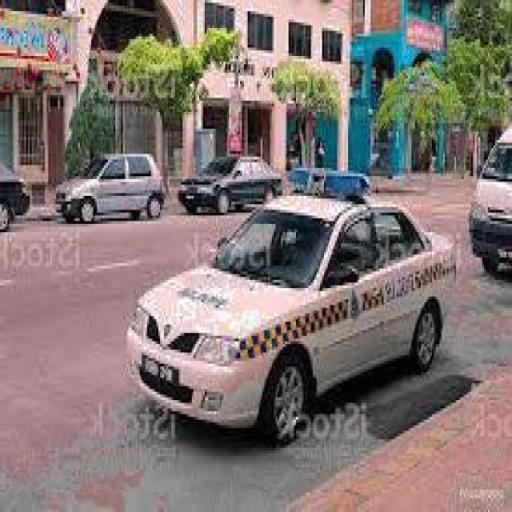Ambulance: (124, 168, 456, 430)
